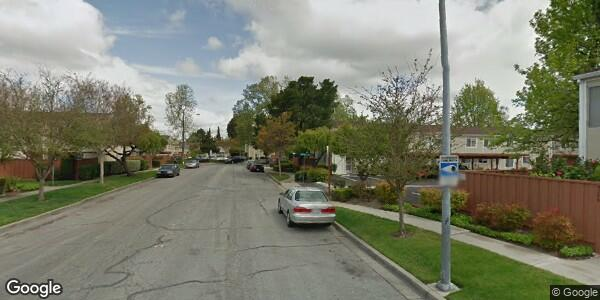Steel_Pole: (427, 1, 462, 296)
